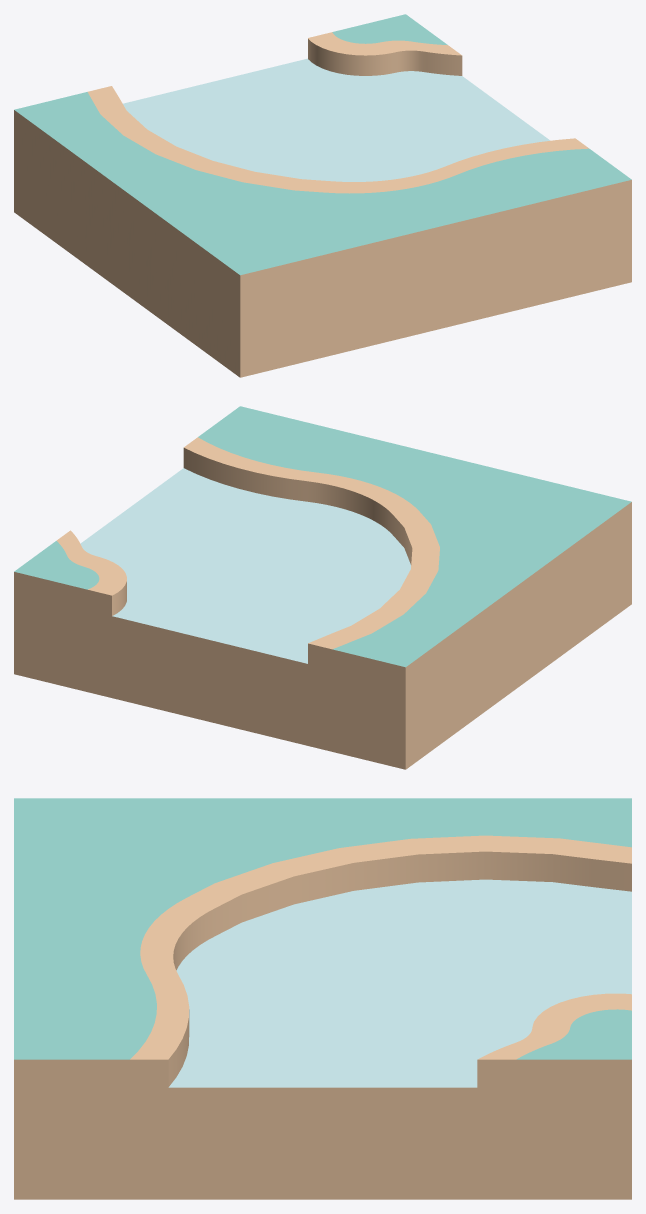
The model's file is ground_dirtRiverCorner.glb.
The picture shows the model from 3 angles, top to bottom: view 1: azimuth 30°, elevation 25°; view 2: azimuth 150°, elevation 25°; view 3: azimuth 270°, elevation 25°; orthographic projection. The views are drawn at different scales.
Visible parts, largest first — view 1: ground_dirtRiverCorner; view 2: ground_dirtRiverCorner; view 3: ground_dirtRiverCorner.
Part boxes in pixels (x1=…): ground_dirtRiverCorner: x1=14, y1=14, x2=631, y2=377; ground_dirtRiverCorner: x1=14, y1=406, x2=631, y2=769; ground_dirtRiverCorner: x1=14, y1=798, x2=631, y2=1199.
Bounding box in the file's own units: 1 × 0.25 × 1.
